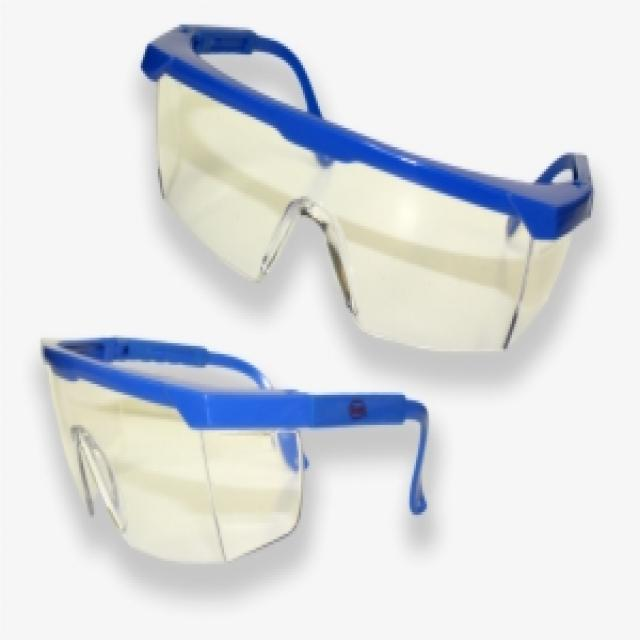Protective Glasses: (130, 15, 630, 363), (18, 313, 438, 583)
